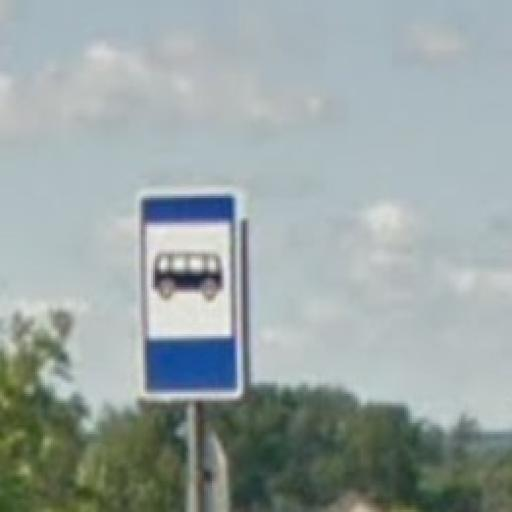traffic_sign: (137, 190, 245, 404)
